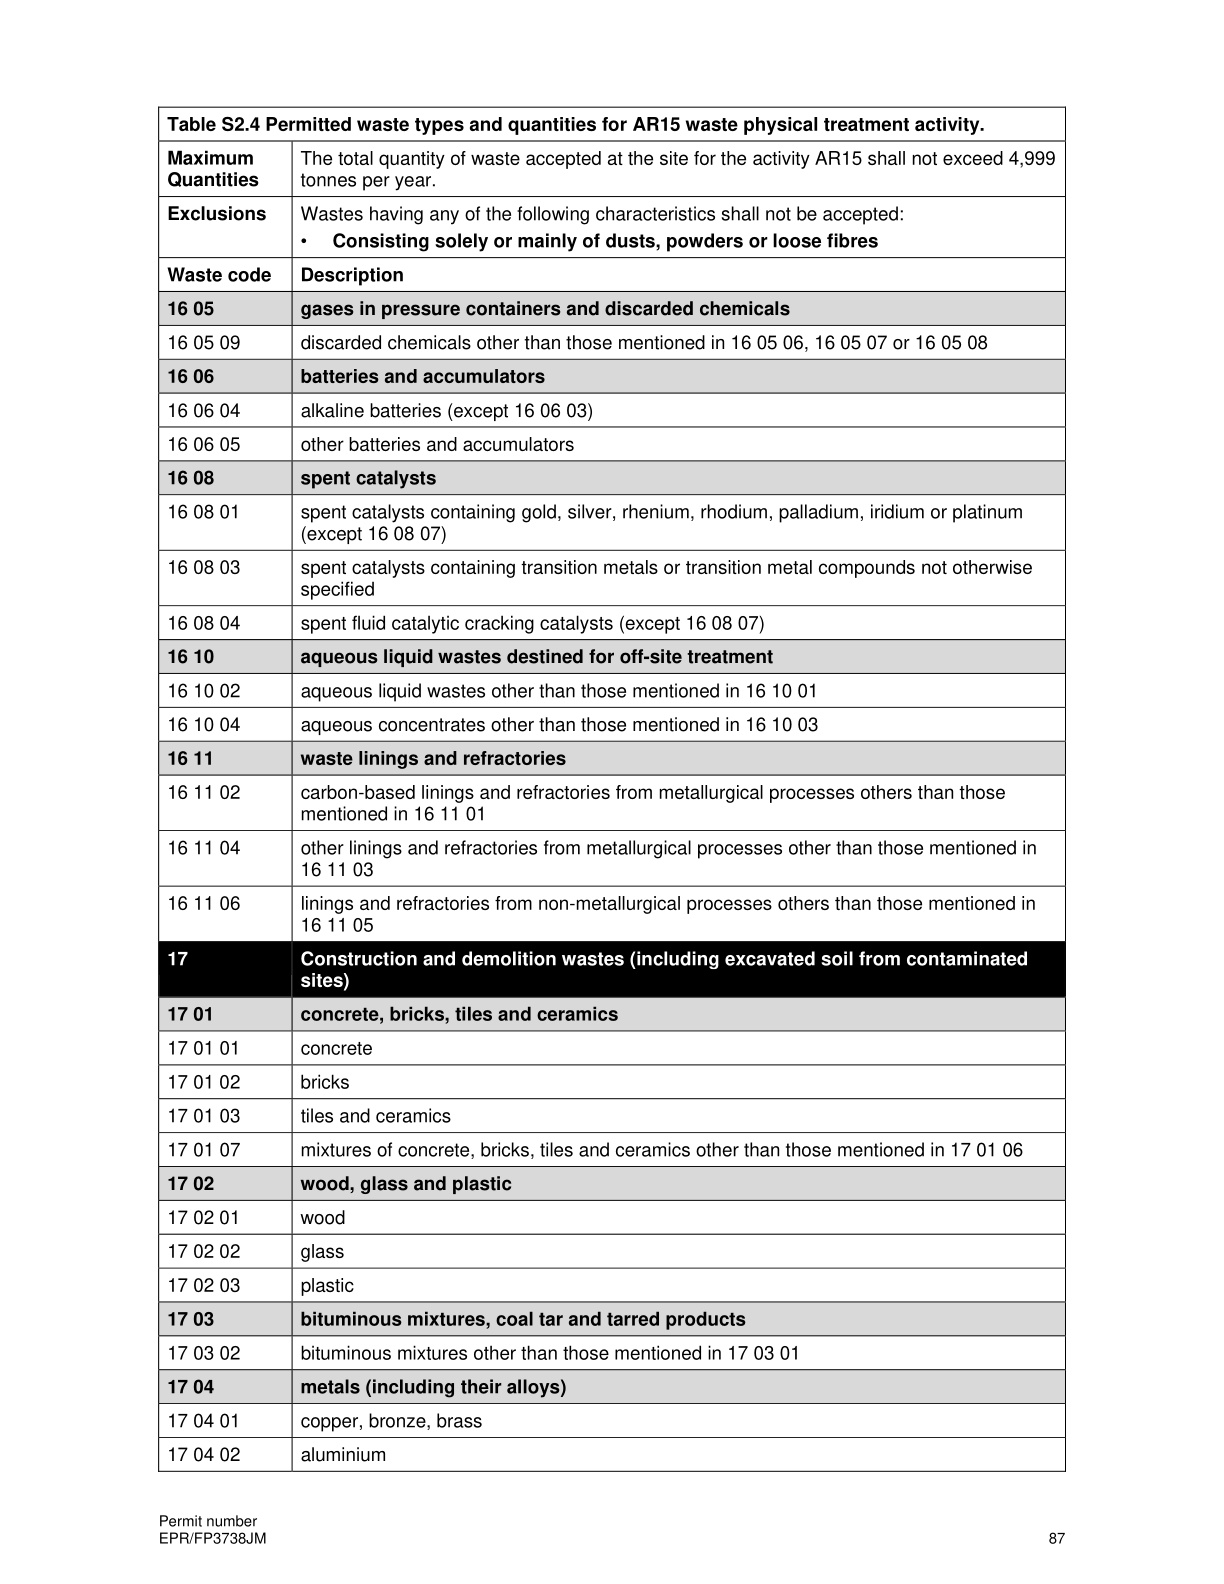merged_cells: (157, 105, 1067, 1473)
